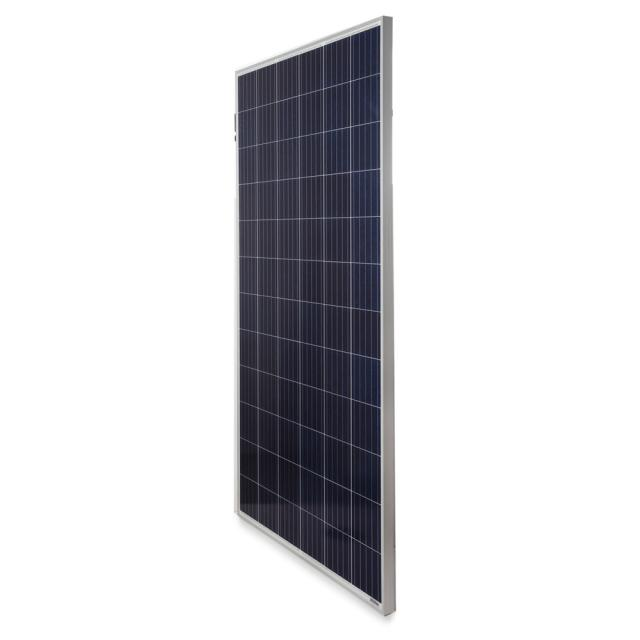clean-solar-panel: (238, 19, 392, 612)
